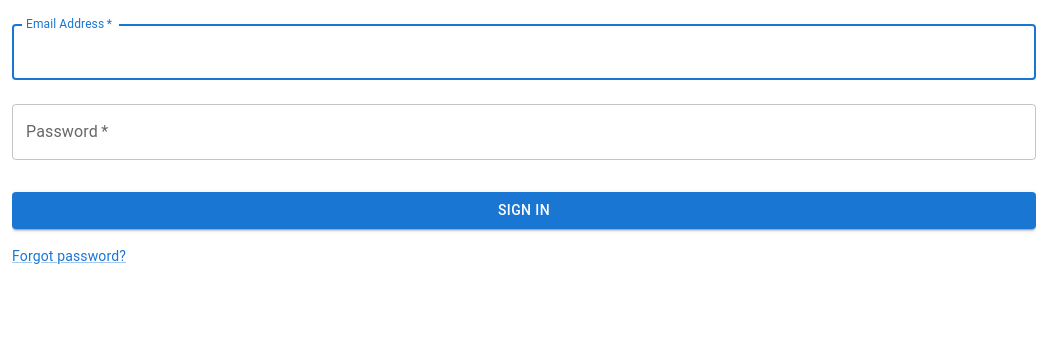
Scenario: LoginForm › handles login error from API
Type "test@example.com" into the field labelled "Email Address *".
click(524, 52); type("test@example.com")  # box left=12, top=24, right=1036, bottom=80
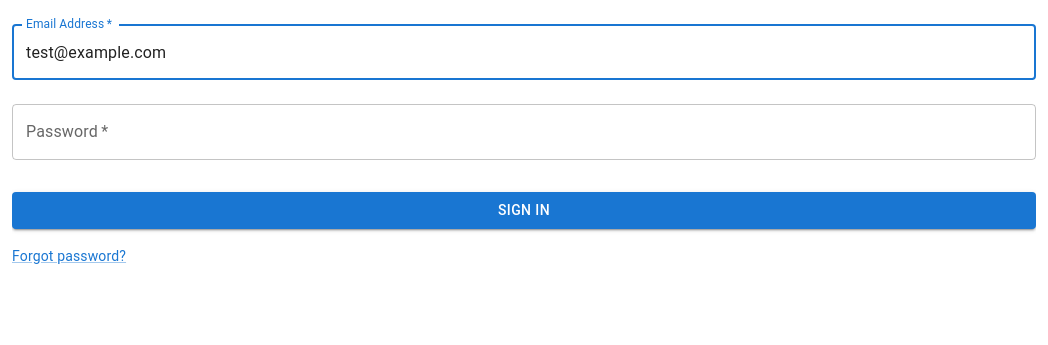
Type "password123" into the password field labelled "Password *".
click(524, 132); type("password123")  # box left=12, top=104, right=1036, bottom=160
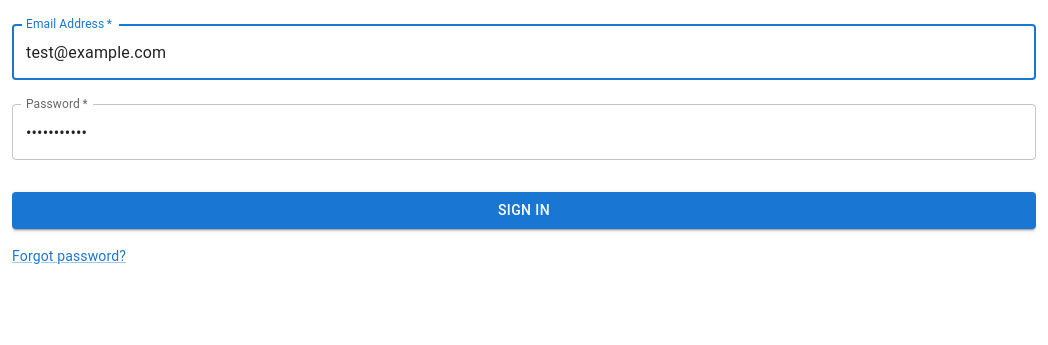
Click the button "Sign In".
click(524, 210)  # box left=12, top=192, right=1036, bottom=228
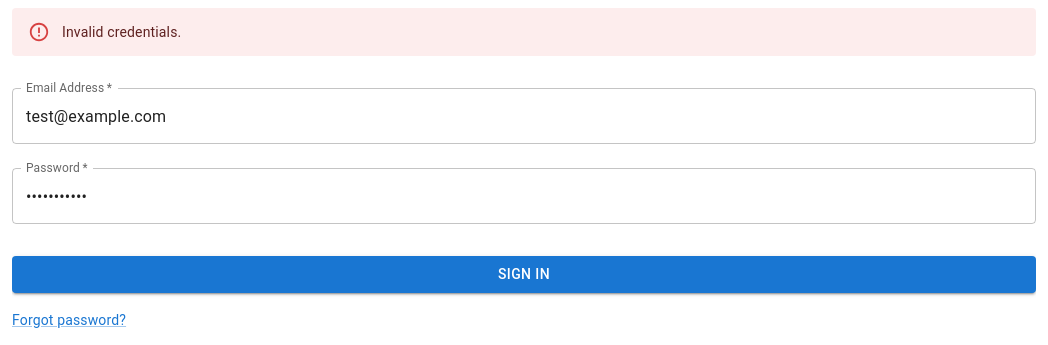
Expected: the text "Invalid credentials." is shown, left=62, top=24, right=181, bottom=40
